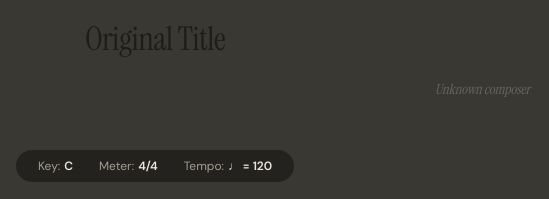
Test: ScoreMetadataHeader Component › cancels edit mode without updating on Escape key
Double-click the button with aria-label "Score title: Original Title" at (155, 40), box [76,16,234,63]
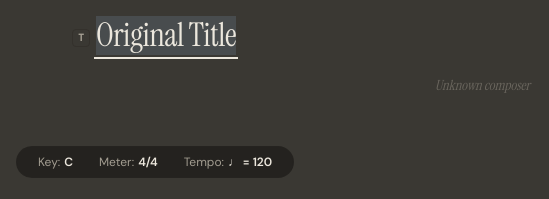
Replace the text in the field named "Edit score title" with "Discarded Title" at (166, 38), box [94,16,238,59]
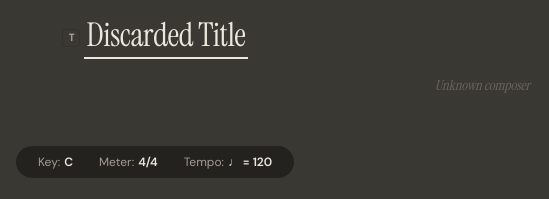
Press Escape in the field named "Edit score title", box [84,16,248,59]
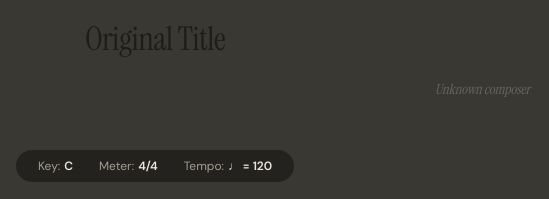
Now the heading "Original Title" is shown, box [85,20,225,59]
